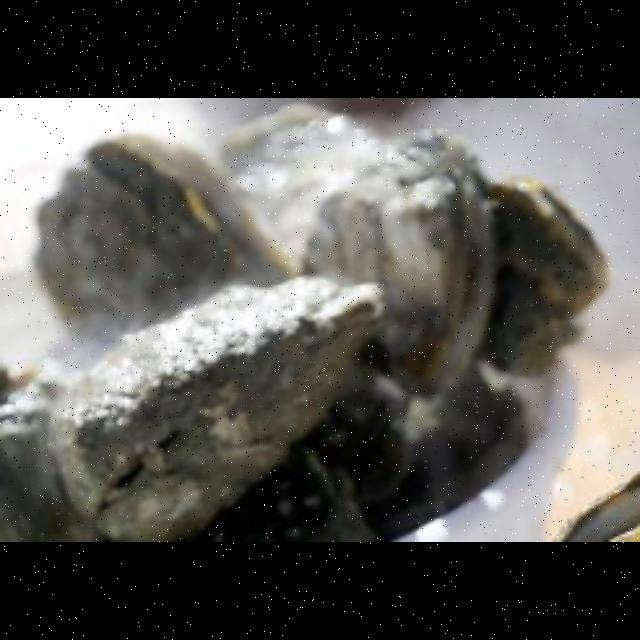Oyster-Closed: (44, 279, 385, 539), (297, 134, 495, 406), (39, 134, 288, 348), (230, 110, 395, 277), (479, 179, 610, 377), (0, 406, 78, 543)
